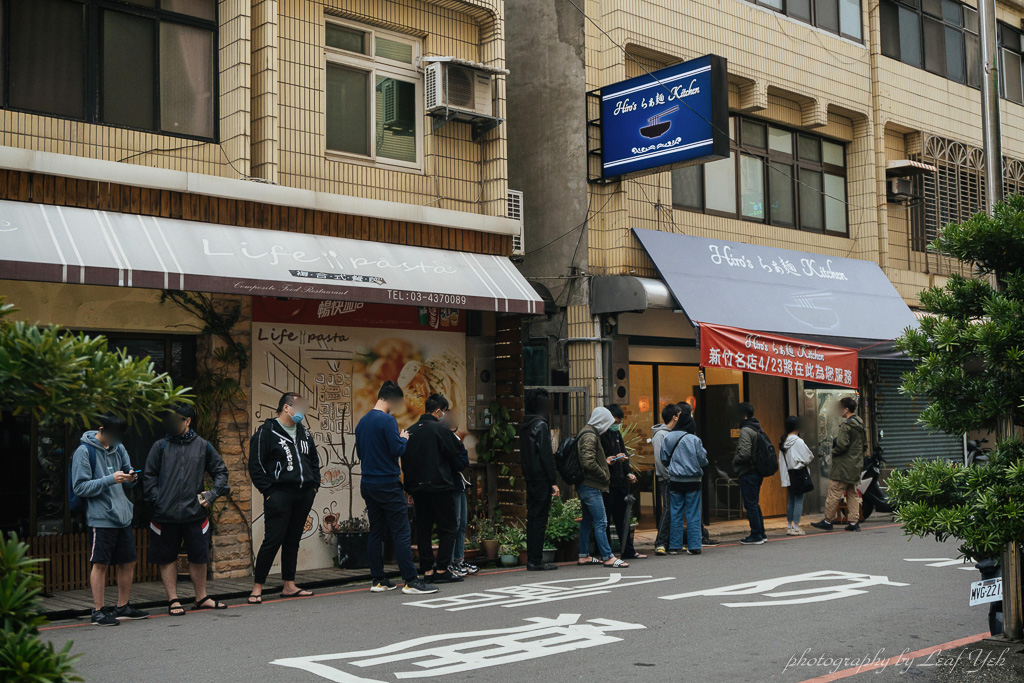people: (142, 413, 225, 617), (242, 398, 316, 600), (357, 384, 422, 594), (70, 422, 135, 627), (405, 393, 471, 577), (566, 406, 626, 571), (645, 400, 703, 558), (516, 401, 558, 575), (825, 395, 866, 533), (734, 397, 771, 545), (773, 413, 813, 536)
